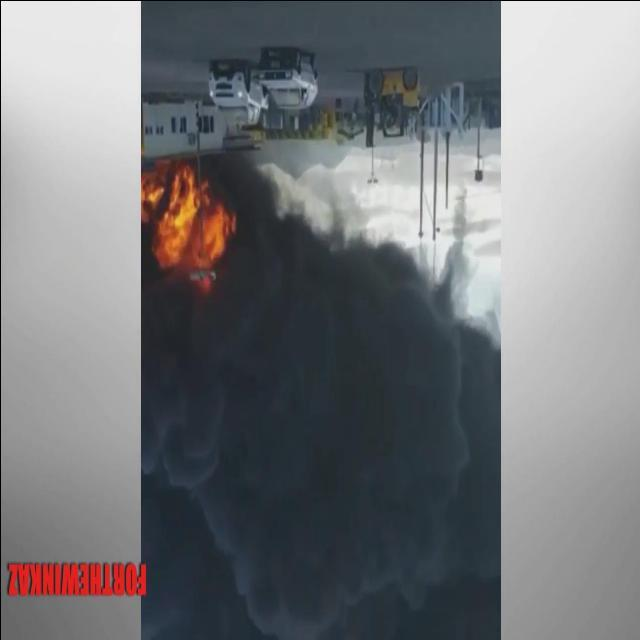Fire: (141, 157, 237, 300)
